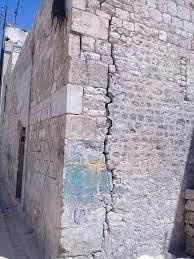crack: (96, 202, 120, 245), (96, 153, 123, 190), (99, 9, 120, 47), (100, 102, 118, 145), (104, 52, 121, 94)
